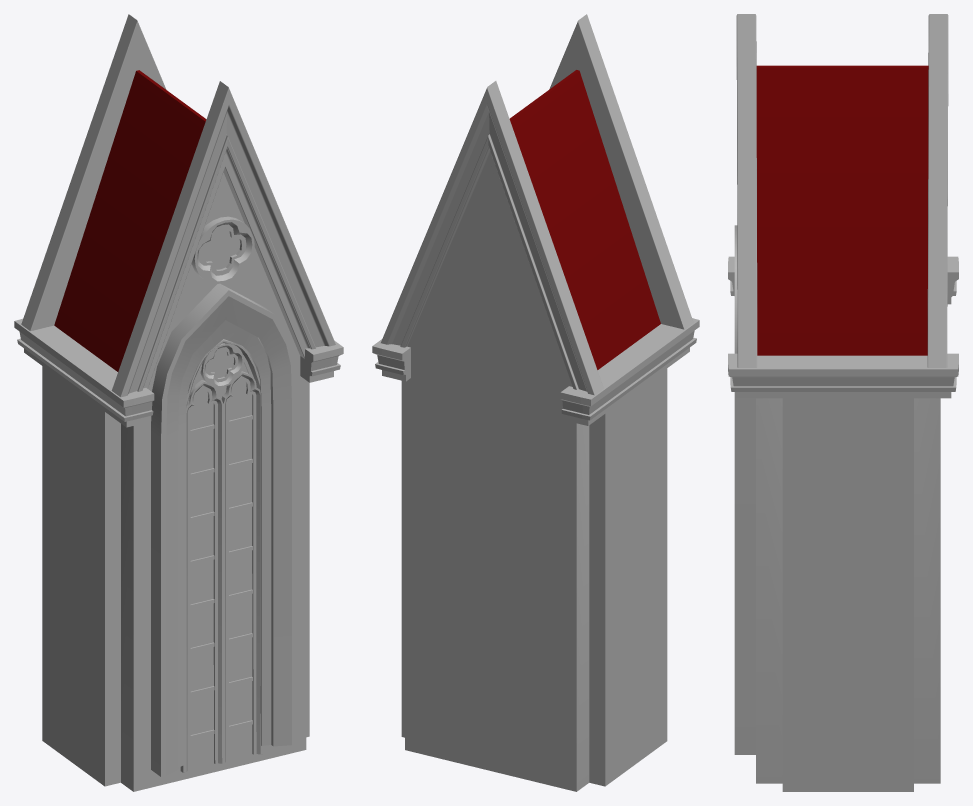
Rendered from window_003.glb.
3 renders of one model, left to right at view 1: azimuth 30°, elevation 25°; view 2: azimuth 150°, elevation 25°; view 3: azimuth 270°, elevation 25°, orthographic. The views are drawn at different scales.
Parts seen in each view (by area): view 1: window_003; view 2: window_003; view 3: window_003.
Part boxes in pixels (bbox=[...]): window_003: bbox=[14, 14, 343, 791]; window_003: bbox=[372, 14, 699, 791]; window_003: bbox=[728, 14, 958, 791].
Size of the model in its own units: 0.7401 by 2.22 by 0.6394.
